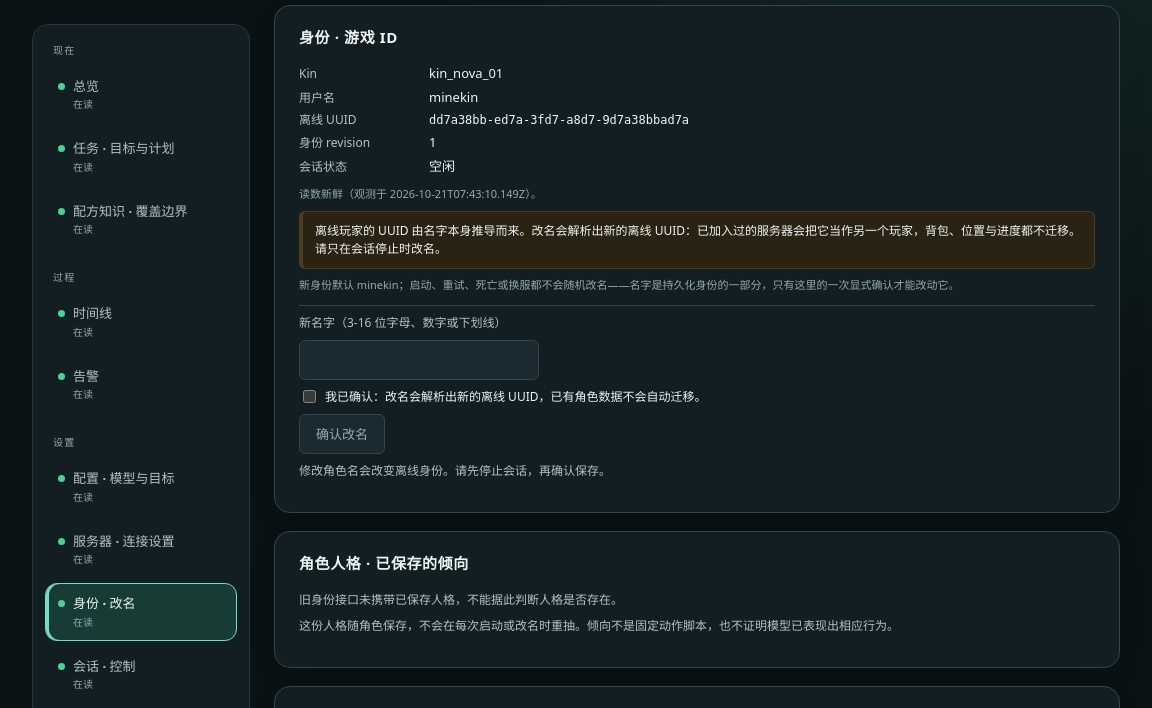
Scenario: 身份面板：改名只在会话停止且显式确认时可用 › 提交与当前相同的名字：明确说名称未变，不动 revision
The image size is (1152, 708).
(page scrolled)
Expected: the text "minekin" is shown, [429,88,478,106]
Type "minekin" into the field labelled "新名字（3-16 位字母、数字或下划线）". click: x=419, y=360
box: [299,340,539,380]
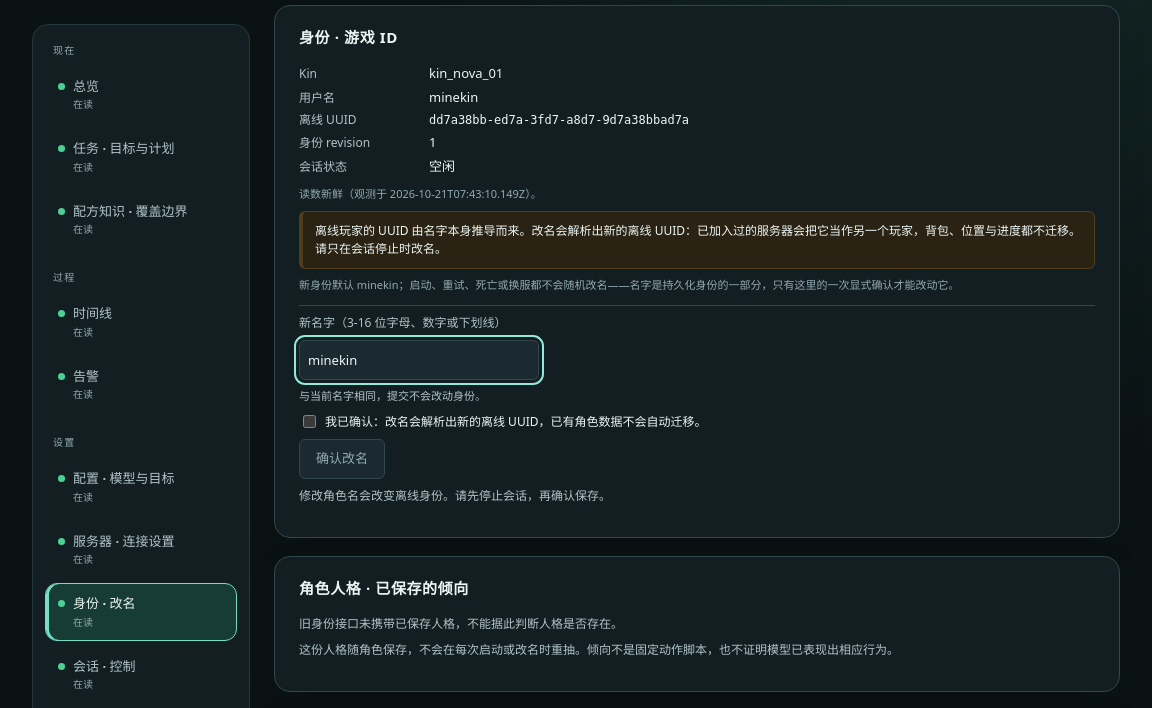
Expected: the text "与当前名字相同，提交不会改动身份。" is shown, [299,388,486,403]
Click the checkbox. click: x=310, y=421
box: [303,415,316,428]
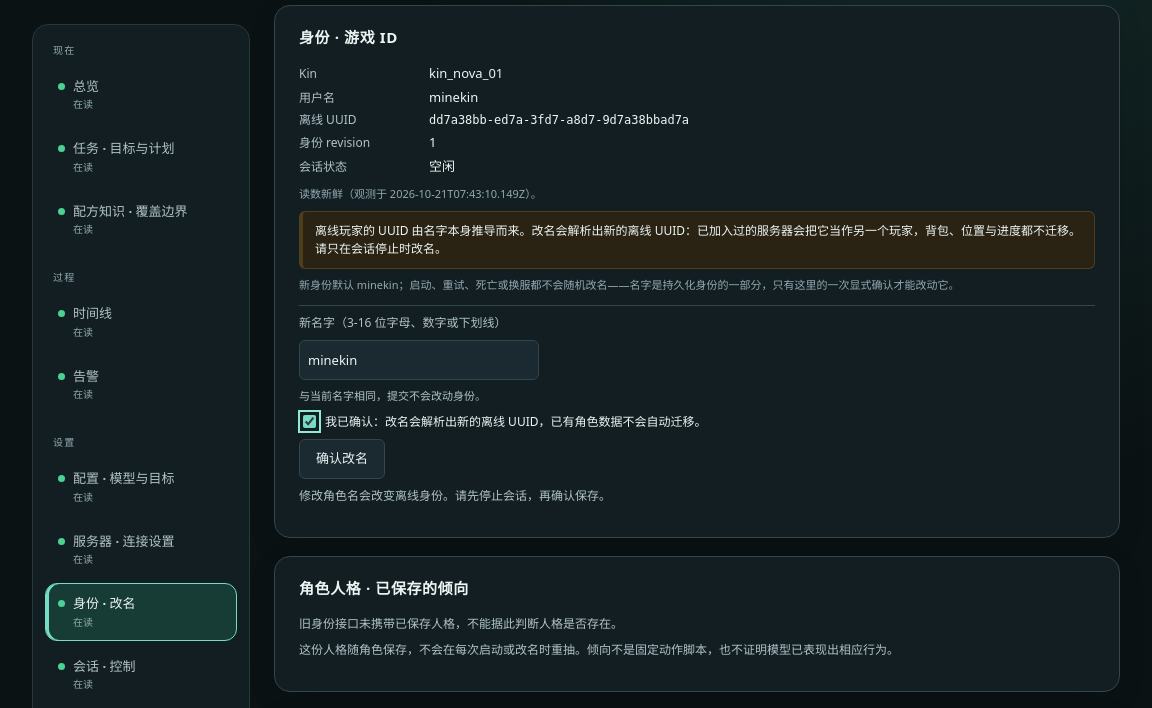
Click the button with test id "identity-submit". click: x=342, y=459
box: [299,439,385,479]
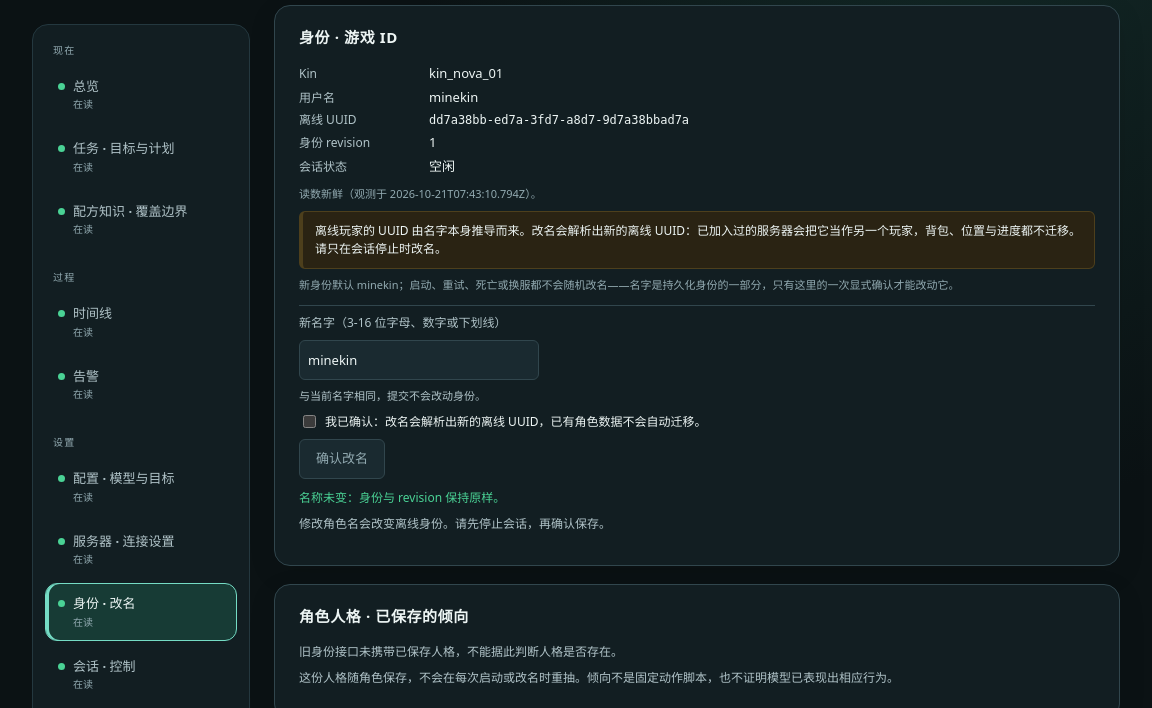
Expected: the text with test id "identity-revision" reads "1", [429,133,436,151]
Expected: the text with test id "identity-result" shows "名称未变", [299,489,505,506]
